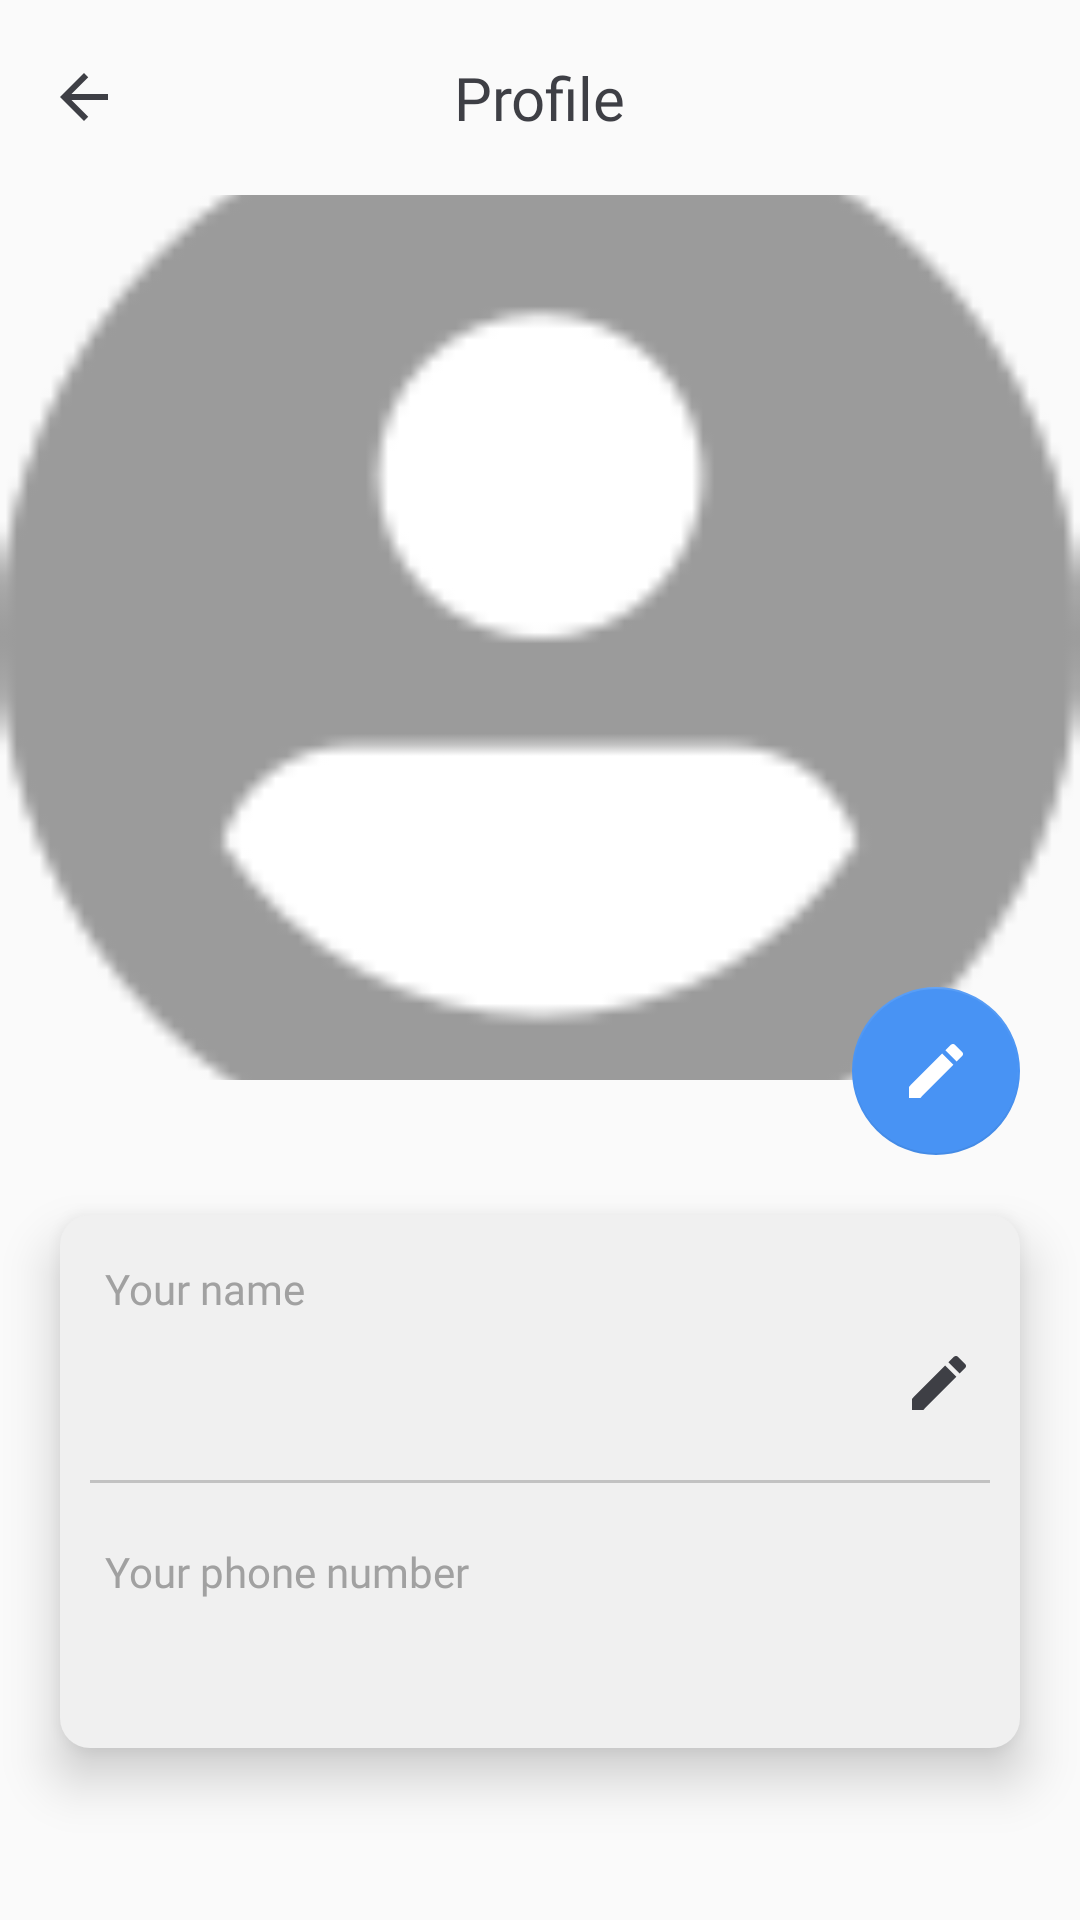

Icon bounding boxes for this 1080px×1920px phone screenshot, format (x1, y1, x2, y2):
arrow back: (60, 73, 108, 121)
edit: (852, 987, 1020, 1155), (912, 1356, 966, 1410)
